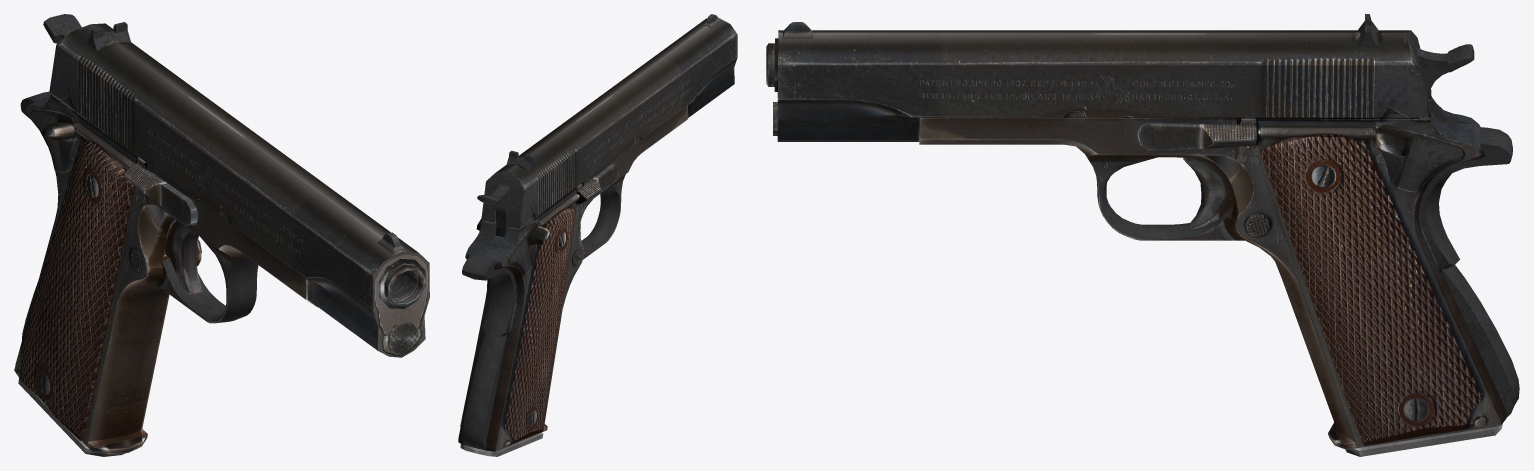
The model's file is colt1911.FBX.
3 views of the same model, side by side, from view 1: azimuth 30°, elevation 25°; view 2: azimuth 150°, elevation 25°; view 3: azimuth 270°, elevation 25° (orthographic). The views are drawn at different scales.
Parts seen in each view (by area): view 1: Plane002, Object001, Object004, Plane005, Object003; view 2: Plane002, Object001, Plane005, Object003; view 3: Plane002, Object001, Object004, Object003, Plane005.
Boxes of the visible parts, bbox=[...] form: Plane002: bbox=[14, 91, 424, 454]; Object001: bbox=[49, 22, 429, 357]; Object004: bbox=[165, 219, 202, 294]; Plane005: bbox=[43, 14, 81, 43]; Object003: bbox=[18, 378, 124, 456]; Plane002: bbox=[458, 105, 688, 451]; Object001: bbox=[481, 14, 737, 228]; Plane005: bbox=[477, 185, 511, 229]; Object003: bbox=[460, 432, 543, 456]; Plane002: bbox=[766, 43, 1519, 449]; Object001: bbox=[773, 14, 1431, 141]; Object004: bbox=[1183, 157, 1233, 228]; Object003: bbox=[1345, 423, 1502, 456]; Plane005: bbox=[1417, 44, 1474, 99].
Bounding box in the file's own units: 18.95 × 79.3 × 128.
1 material, 1 textured.
